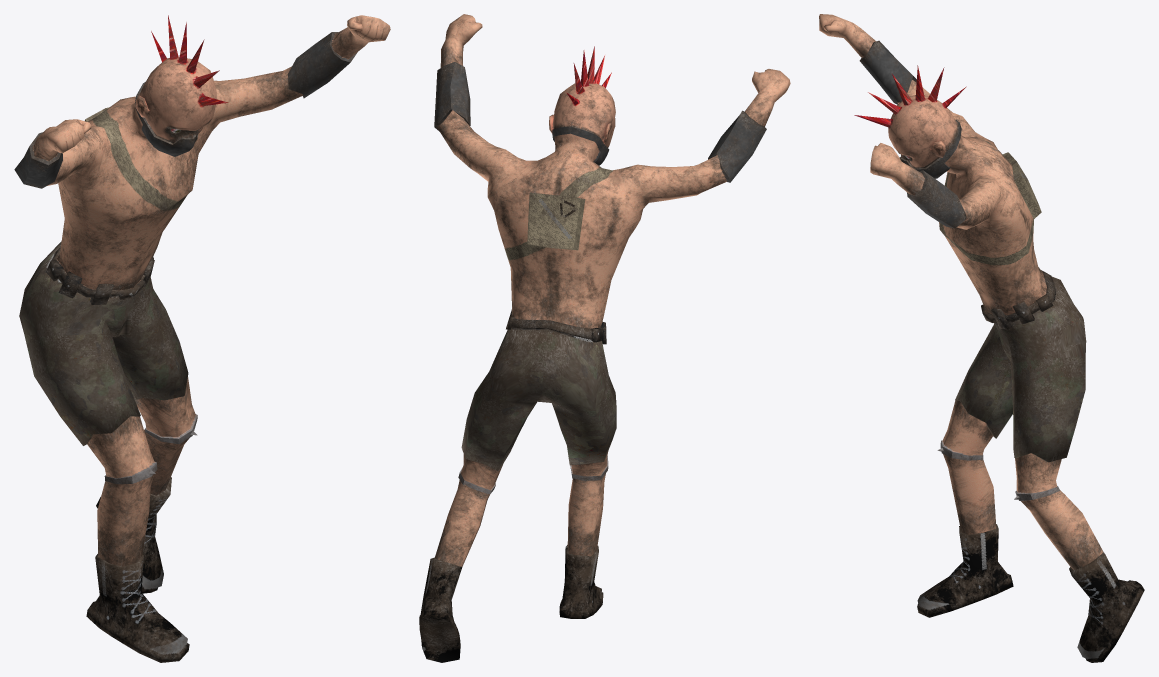
Rendered from Anim_ganar_1_npc2.0032.obj.
3 renders of one model, left to right at view 1: azimuth 30°, elevation 25°; view 2: azimuth 150°, elevation 25°; view 3: azimuth 270°, elevation 25°, orthographic. The views are drawn at different scales.
Parts seen in each view (by area): view 1: polySurface1; view 2: polySurface1; view 3: polySurface1.
Part boxes in pixels (x1=…): polySurface1: x1=14, y1=15, x2=390, y2=662; polySurface1: x1=419, y1=14, x2=790, y2=662; polySurface1: x1=819, y1=14, x2=1144, y2=662.
Bounding box in the file's own units: 5.7 × 9.88 × 5.11.
